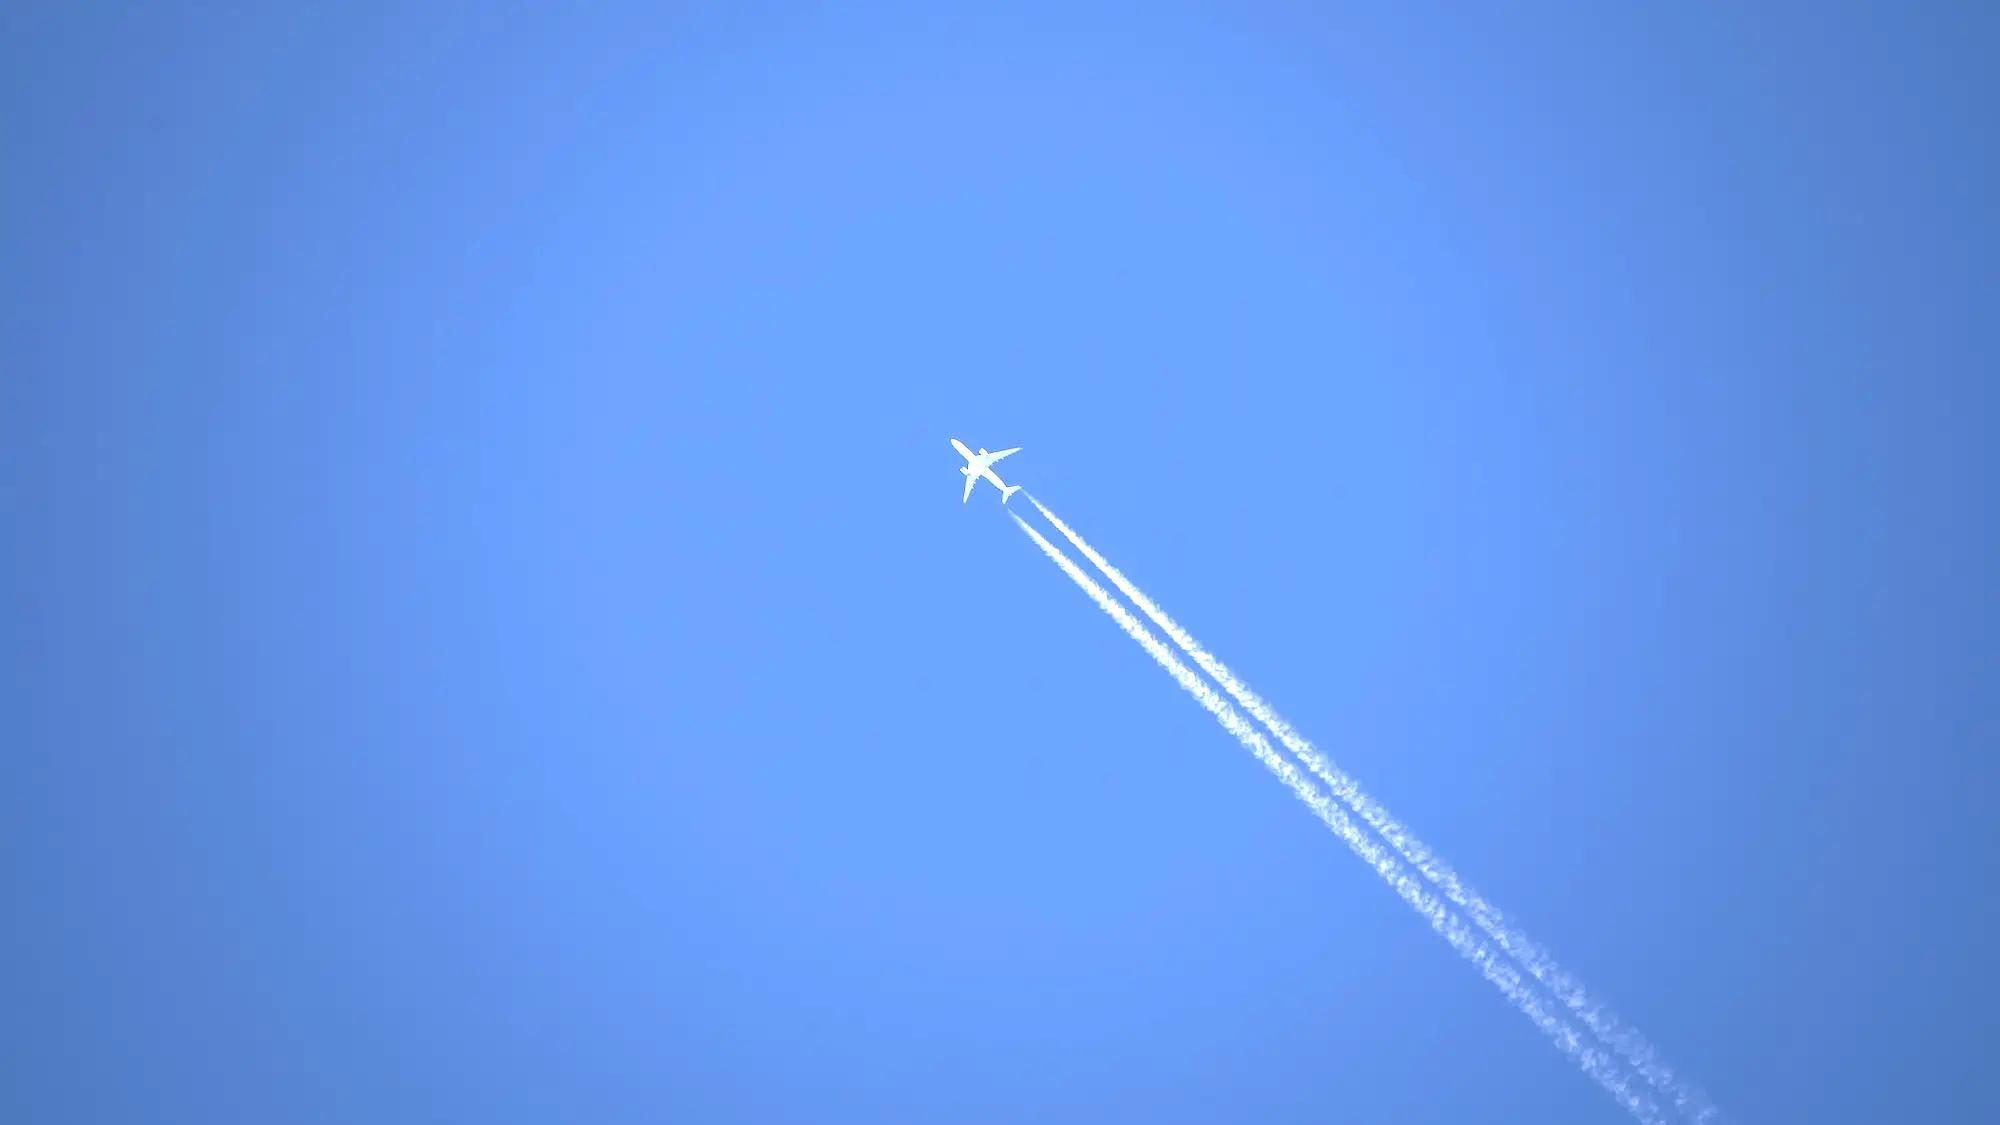Plane: (874, 407, 1434, 951)
